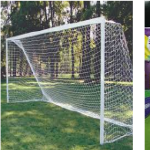goals: (5, 15, 133, 143)
